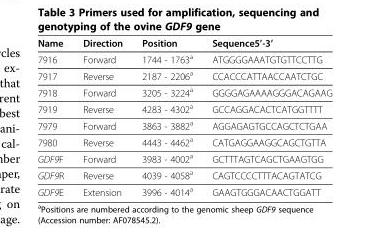table: (36, 36, 331, 197)
table column: (201, 36, 331, 197), (131, 36, 201, 197), (72, 36, 131, 197), (36, 36, 72, 197)
table column header: (36, 36, 331, 50)
table row: (36, 66, 331, 83), (36, 99, 331, 116), (36, 116, 331, 133), (36, 149, 331, 166), (36, 50, 331, 66), (36, 83, 331, 99), (36, 133, 331, 149), (36, 166, 331, 182), (36, 182, 331, 197), (36, 36, 331, 50)
